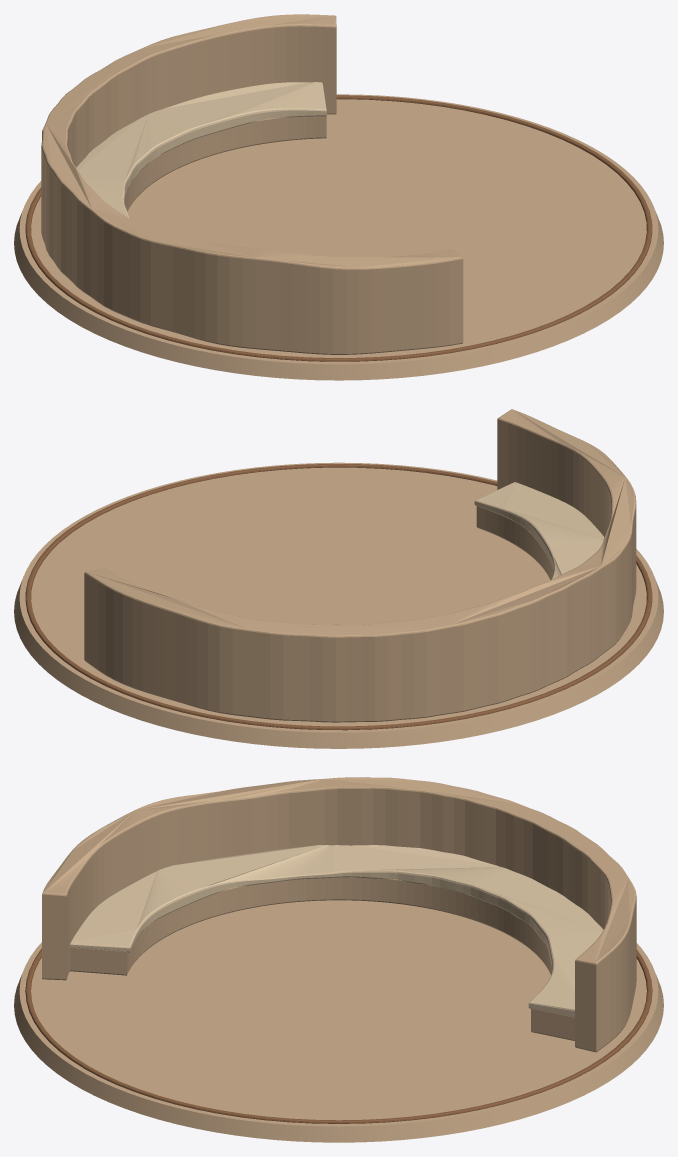
The picture shows the model from 3 angles, top to bottom: view 1: azimuth 30°, elevation 25°; view 2: azimuth 150°, elevation 25°; view 3: azimuth 270°, elevation 25°; orthographic projection.
Visible parts, largest first — view 1: Mesh_Platform, Mesh_CurvedBack, Mesh_SeatTop, Mesh_PlatformInlay, Mesh_SeatPlinth; view 2: Mesh_Platform, Mesh_CurvedBack, Mesh_PlatformInlay, Mesh_SeatTop, Mesh_SeatPlinth; view 3: Mesh_Platform, Mesh_CurvedBack, Mesh_SeatTop, Mesh_SeatPlinth, Mesh_PlatformInlay.
Boxes of the visible parts, x1=… form: Mesh_Platform: x1=14, y1=94, x2=663, y2=380; Mesh_CurvedBack: x1=41, y1=14, x2=463, y2=354; Mesh_SeatTop: x1=76, y1=82, x2=326, y2=218; Mesh_PlatformInlay: x1=25, y1=95, x2=652, y2=361; Mesh_SeatPlinth: x1=124, y1=116, x2=326, y2=211; Mesh_Platform: x1=14, y1=462, x2=663, y2=748; Mesh_CurvedBack: x1=84, y1=409, x2=636, y2=722; Mesh_PlatformInlay: x1=25, y1=463, x2=652, y2=730; Mesh_SeatTop: x1=474, y1=482, x2=604, y2=579; Mesh_SeatPlinth: x1=476, y1=506, x2=553, y2=579; Mesh_Platform: x1=14, y1=900, x2=663, y2=1142; Mesh_CurvedBack: x1=42, y1=777, x2=636, y2=1052; Mesh_SeatTop: x1=70, y1=845, x2=603, y2=1016; Mesh_SeatPlinth: x1=70, y1=877, x2=574, y2=1040; Mesh_PlatformInlay: x1=25, y1=948, x2=652, y2=1123.
Bounding box in the file's own units: 9.36 × 1.67 × 9.36.
